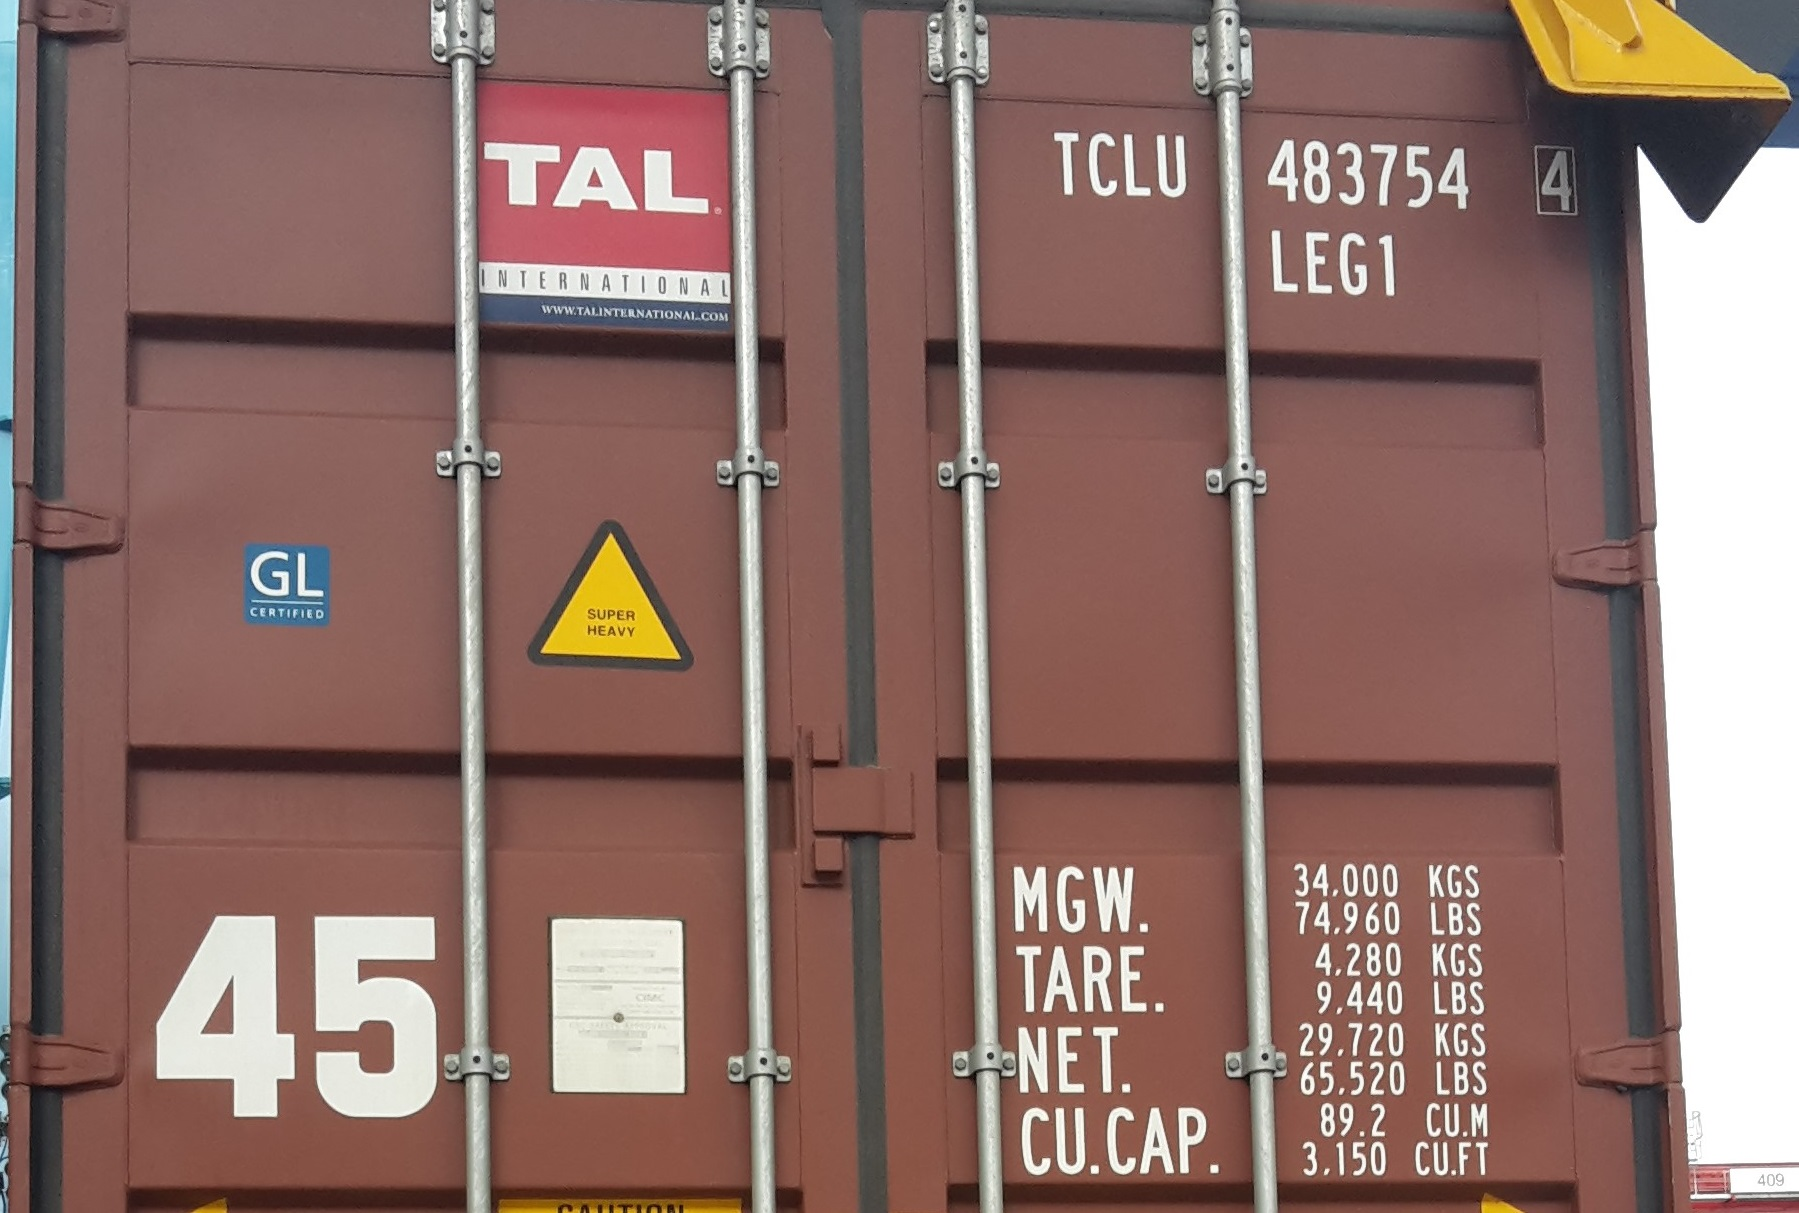container_door: (16, 3, 1683, 1204)
